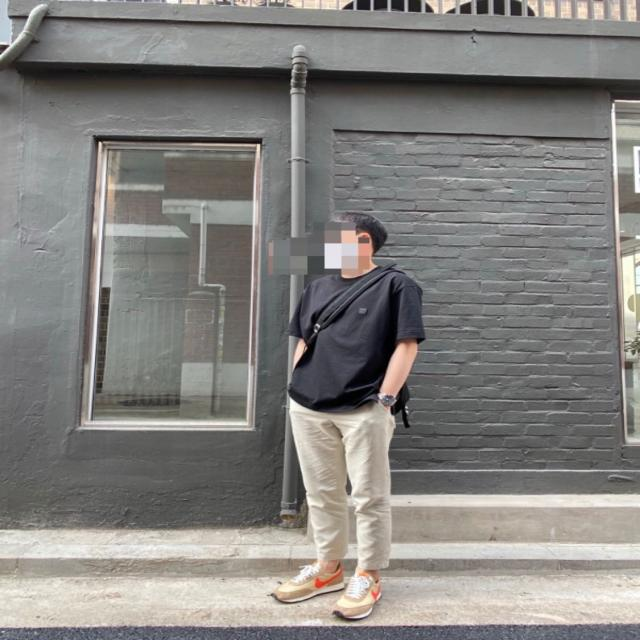cottonpants: (289, 392, 397, 564)
shortsleeve: (281, 271, 424, 418)
